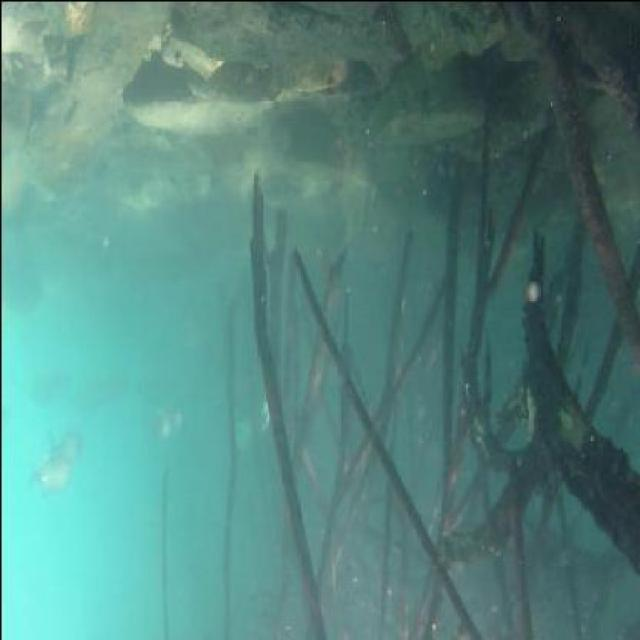Caranx_sexfasciatus_juvenile: (44, 414, 85, 469), (138, 393, 177, 450), (21, 445, 70, 490)
